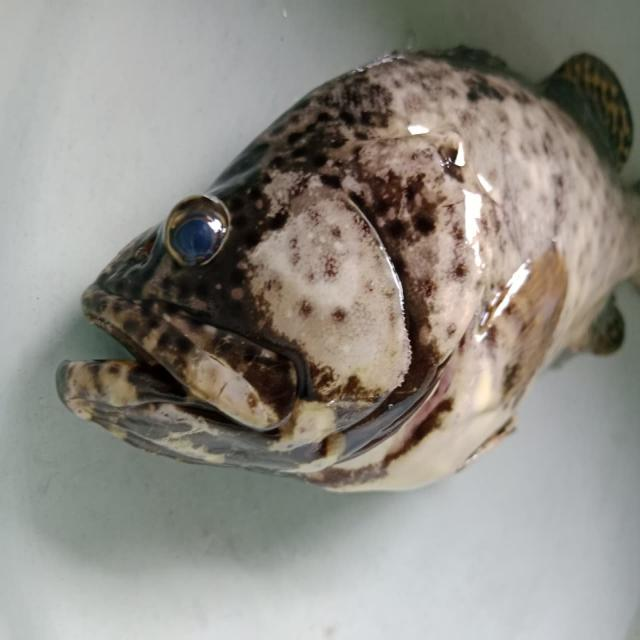ikan: (54, 33, 625, 532)
